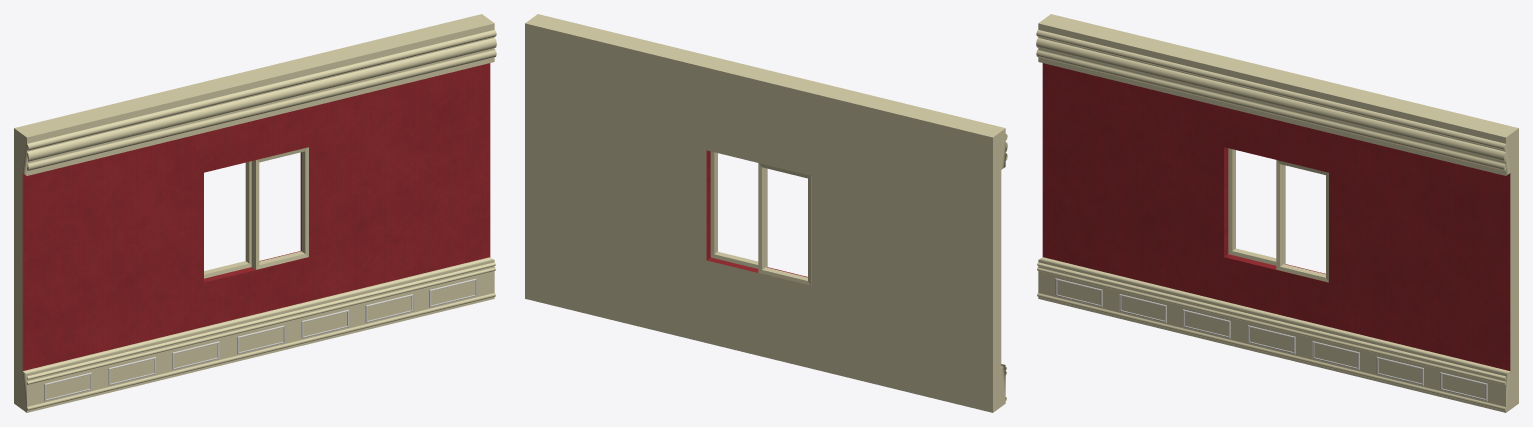
File: wall2.fbx
The picture shows the model from 3 angles, left to right: view 1: azimuth 30°, elevation 25°; view 2: azimuth 150°, elevation 25°; view 3: azimuth 330°, elevation 25°; orthographic projection.
Parts seen in each view (by area): view 1: pCube3; view 2: pCube3; view 3: pCube3.
Boxes of the visible parts, box(x1,y1,x2,y2) form: pCube3: box(14, 14, 496, 412); pCube3: box(525, 14, 1007, 412); pCube3: box(1036, 14, 1518, 412).
Bounding box in the file's own units: 1603 × 901 × 88.56.
